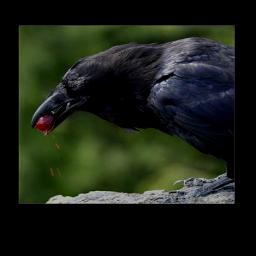Crow: (30, 36, 235, 203)
